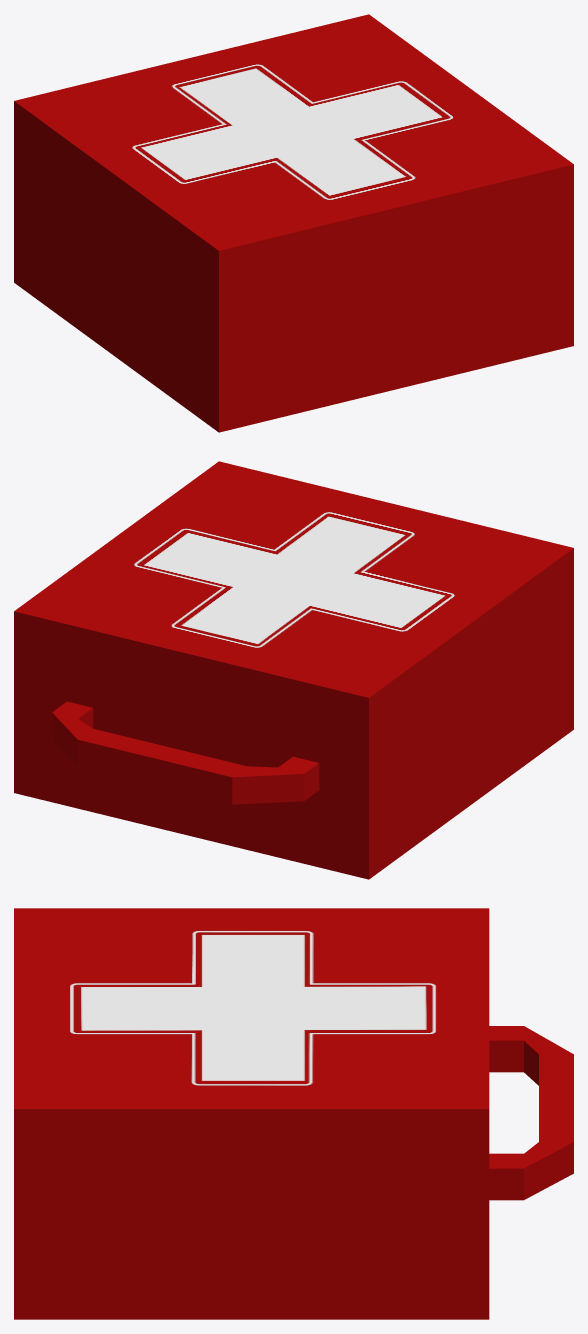
The model's file is LifePack.fbx.
3 renders of one model, top to bottom at view 1: azimuth 30°, elevation 25°; view 2: azimuth 150°, elevation 25°; view 3: azimuth 270°, elevation 25°, orthographic. The views are drawn at different scales.
Visible parts, largest first — view 1: Cube; view 2: Cube; view 3: Cube.
Part boxes in pixels (<box>): Cube: <box>14,14,573,432</box>; Cube: <box>14,461,573,879</box>; Cube: <box>14,908,573,1319</box>.
Bounding box in the file's own units: 200 × 97.8 × 236.
